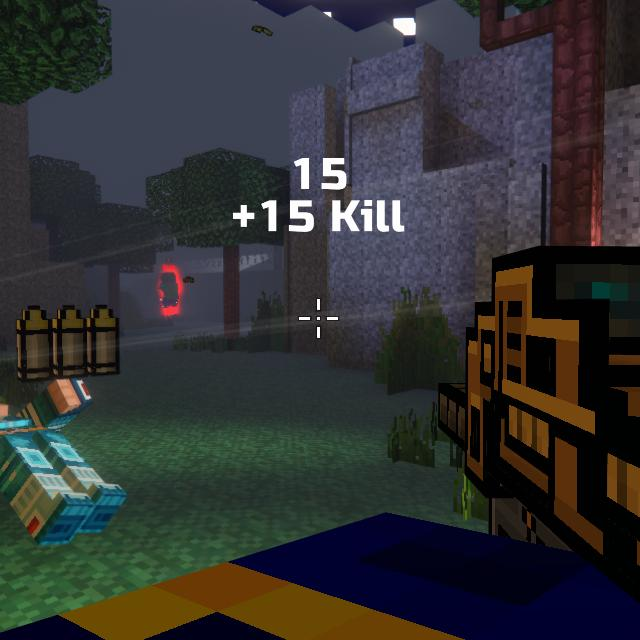Enemy: (160, 270, 179, 308)
